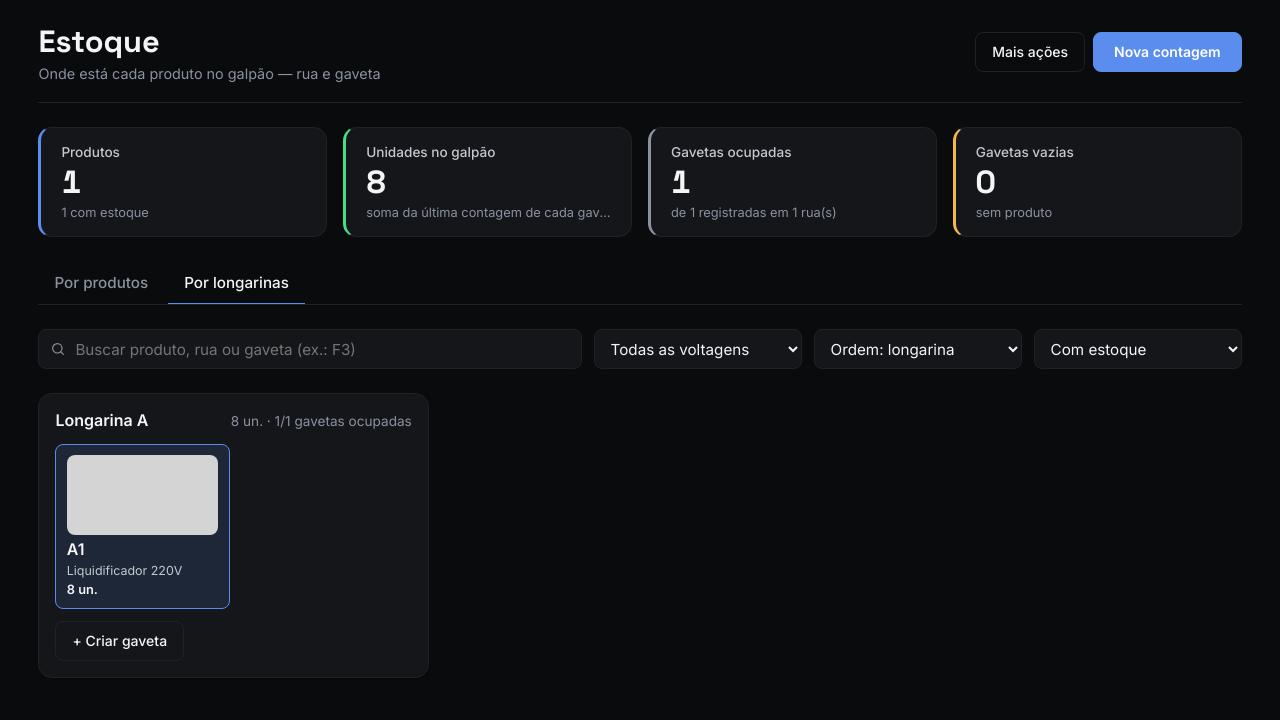
Estoque › abre a criação de gaveta já direcionada à longarina pelo título ou pelo botão abaixo
The image size is (1280, 720).
Click the button with aria-label "Criar gaveta na Longarina A".
click(102, 420)  # box [55,410,148,430]
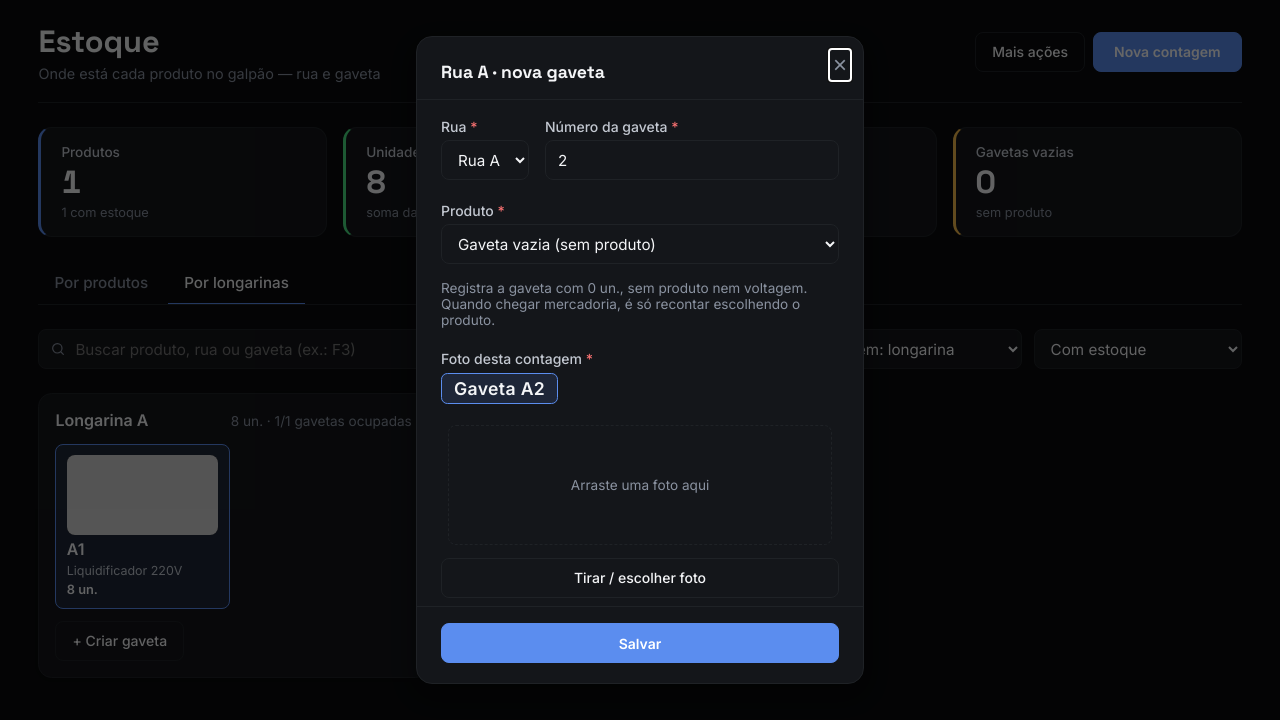
Expected: the dropdown labelled "Rua *" shows "Rua A", [441,140,529,180]
Click the button named "Fechar".
click(840, 65)  # box [829,49,851,81]
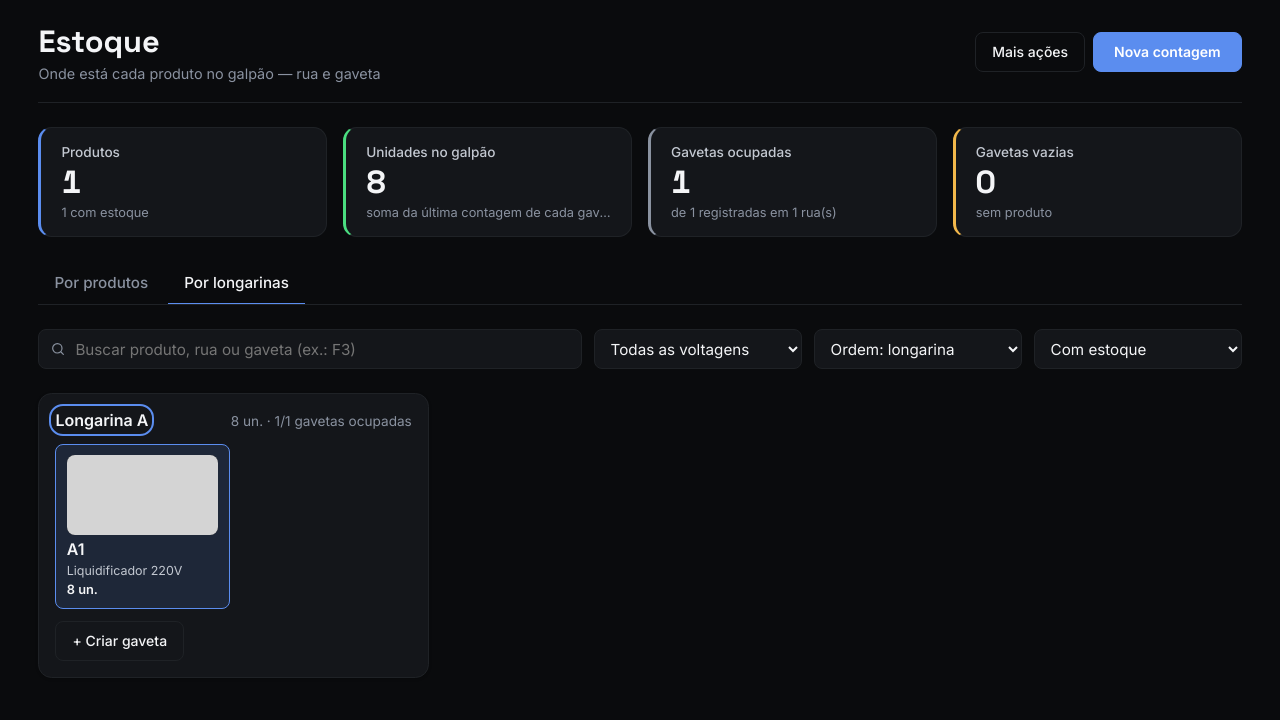
Click the button "+ Criar gaveta".
click(120, 640)  # box [55,620,184,660]
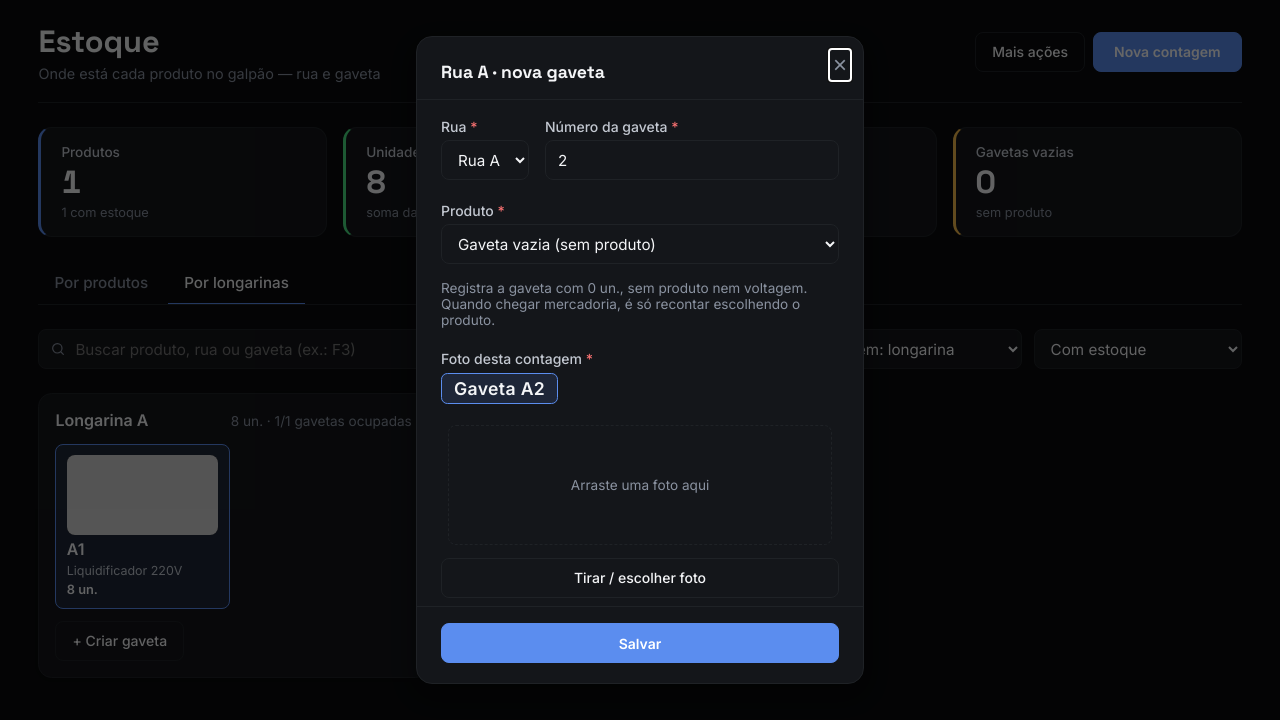
Expected: the dropdown labelled "Rua *" shows "Rua A", [441,140,529,180]
